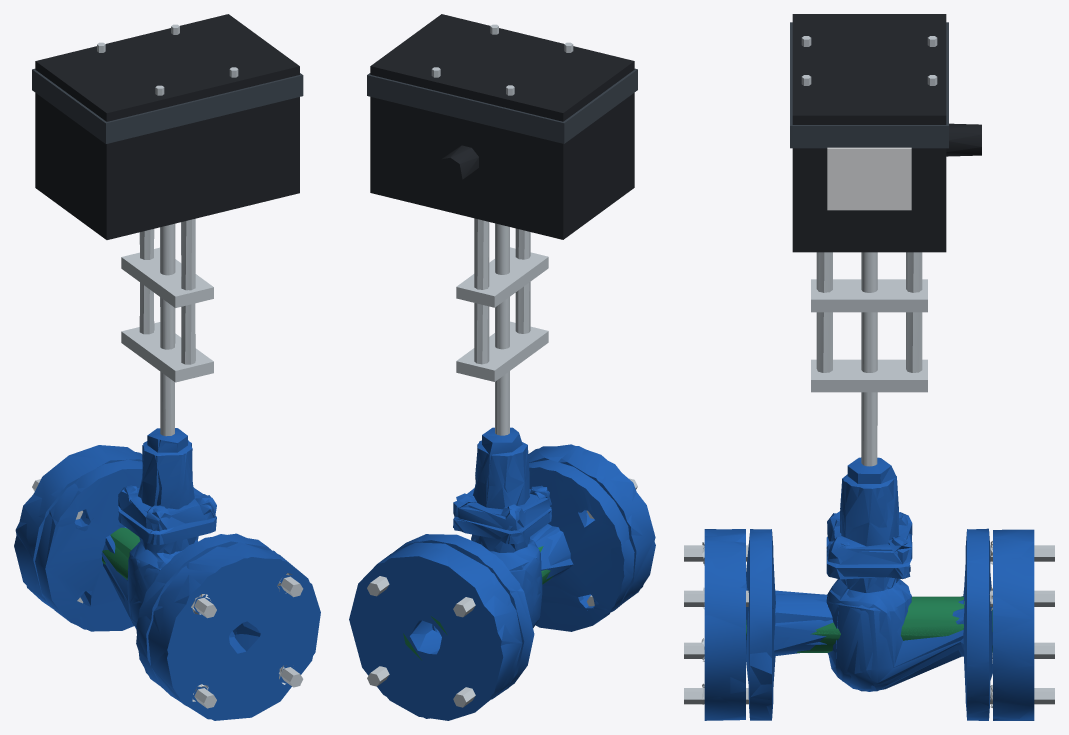
The model's file is modulation.glb.
The picture shows the model from 3 angles, left to right: view 1: azimuth 30°, elevation 25°; view 2: azimuth 150°, elevation 25°; view 3: azimuth 270°, elevation 25°; orthographic projection. The views are drawn at different scales.
Parts seen in each view (by area): view 1: mod_eco_drive, mod_eco, mod_direct, mod_eco_bypass; view 2: mod_eco_drive, mod_direct, mod_eco; view 3: mod_eco_drive, mod_eco, mod_direct, mod_eco_bypass.
Boxes of the visible parts, x1=… form: mod_eco_drive: x1=32, y1=14, x2=303, y2=436; mod_eco: x1=14, y1=428, x2=320, y2=719; mod_direct: x1=15, y1=428, x2=312, y2=720; mod_eco_bypass: x1=102, y1=527, x2=140, y2=579; mod_eco_drive: x1=367, y1=14, x2=637, y2=435; mod_direct: x1=349, y1=428, x2=655, y2=718; mod_eco: x1=371, y1=427, x2=655, y2=720; mod_eco_drive: x1=790, y1=14, x2=981, y2=466; mod_eco: x1=684, y1=457, x2=1054, y2=720; mod_direct: x1=684, y1=457, x2=1054, y2=720; mod_eco_bypass: x1=746, y1=596, x2=992, y2=652.
Bounding box in the file's own units: 0.181 × 0.526 × 0.27.
